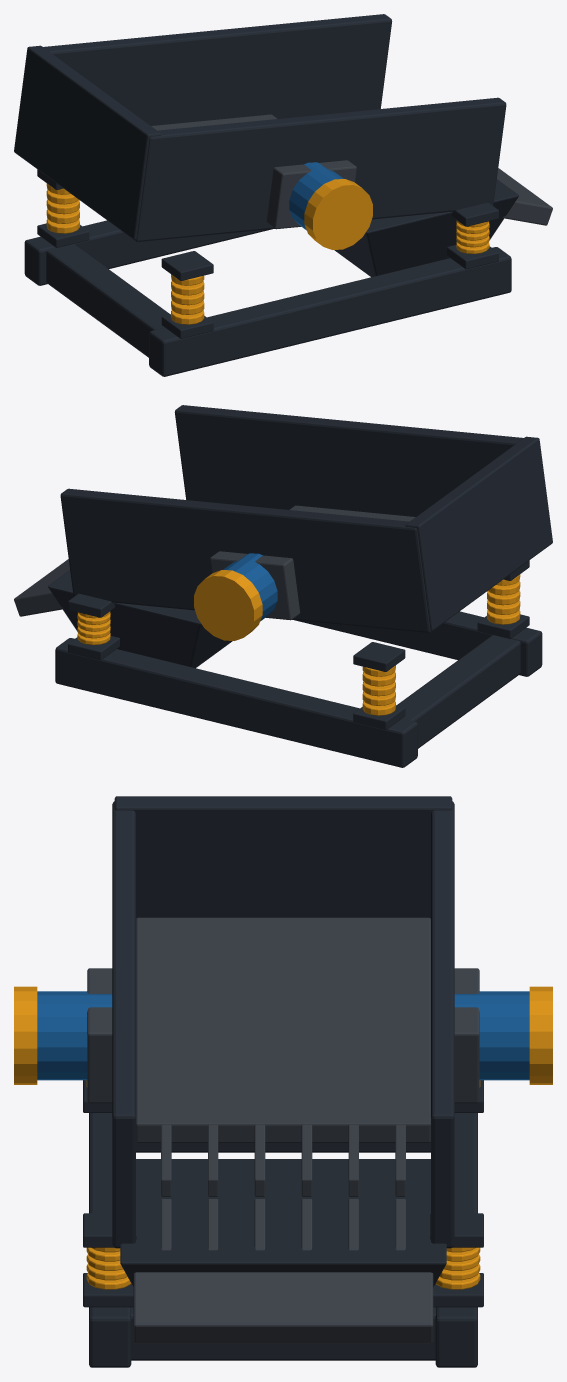
The model's file is vibro_feeder_vf101.glb.
3 renders of one model, top to bottom at view 1: azimuth 30°, elevation 25°; view 2: azimuth 150°, elevation 25°; view 3: azimuth 270°, elevation 25°, orthographic. The views are drawn at different scales.
Parts seen in each view (by area): view 1: VF101_SideL, VF101_SideR, VF101_SubFrameL, VF101_BackPlate, VF101_SubCrossF, VF101_UndersizePan, VF101_SubFrameR, VF101_ExciterWeight_L, VF101_ExciterMount_L, VF101_OversizeNose, VF101_ExciterMotor_L, VF101_Spring_1_TopCap (+5 smaller); view 2: VF101_SideR, VF101_SideL, VF101_SubFrameR, VF101_BackPlate, VF101_SubCrossF, VF101_UndersizePan, VF101_SubFrameL, VF101_ExciterWeight_R, VF101_ExciterMount_R, VF101_OversizeNose, VF101_ExciterMotor_R, VF101_Spring_2_TopCap (+5 smaller); view 3: VF101_PanFloor, VF101_BackPlate, VF101_UndersizePan, VF101_OversizeNose, VF101_SideL, VF101_SideR, VF101_SubCrossR, VF101_SubFrameL, VF101_SubFrameR, VF101_ExciterMotor_L, VF101_ExciterMotor_R, VF101_ExciterMount_L (+14 smaller).
Boxes of the visible parts, left/top/right/bottom form: VF101_SideL: left=134, top=97, right=506, bottom=241; VF101_SideR: left=43, top=14, right=392, bottom=125; VF101_SubFrameL: left=149, top=247, right=511, bottom=376; VF101_BackPlate: left=14, top=45, right=161, bottom=239; VF101_SubCrossF: left=46, top=244, right=170, bottom=357; VF101_UndersizePan: left=334, top=179, right=518, bottom=277; VF101_SubFrameR: left=24, top=220, right=272, bottom=285; VF101_ExciterWeight_L: left=304, top=179, right=372, bottom=249; VF101_ExciterMount_L: left=266, top=160, right=356, bottom=229; VF101_OversizeNose: left=497, top=168, right=552, bottom=225; VF101_ExciterMotor_L: left=289, top=162, right=343, bottom=230; VF101_Spring_1_TopCap: left=161, top=251, right=213, bottom=280; VF101_SideR: left=60, top=488, right=432, bottom=632; VF101_SideL: left=174, top=405, right=523, bottom=516; VF101_SubFrameR: left=55, top=638, right=417, bottom=767; VF101_BackPlate: left=405, top=436, right=552, bottom=630; VF101_SubCrossF: left=396, top=635, right=520, bottom=748; VF101_UndersizePan: left=48, top=570, right=232, bottom=668; VF101_SubFrameL: left=294, top=611, right=542, bottom=676; VF101_ExciterWeight_R: left=194, top=570, right=262, bottom=640; VF101_ExciterMount_R: left=210, top=551, right=300, bottom=620; VF101_OversizeNose: left=14, top=559, right=69, bottom=616; VF101_ExciterMotor_R: left=223, top=553, right=277, bottom=621; VF101_Spring_2_TopCap: left=353, top=642, right=405, bottom=671; VF101_PanFloor: left=136, top=917, right=430, bottom=1142; VF101_BackPlate: left=114, top=796, right=452, bottom=918; VF101_UndersizePan: left=120, top=1159, right=446, bottom=1286; VF101_OversizeNose: left=133, top=1272, right=433, bottom=1343; VF101_SideL: left=112, top=801, right=135, bottom=1248; VF101_SideR: left=431, top=801, right=454, bottom=1248; VF101_SubCrossR: left=130, top=1307, right=436, bottom=1360; VF101_SubFrameL: left=89, top=1113, right=131, bottom=1367; VF101_SubFrameR: left=435, top=1113, right=477, bottom=1367; VF101_ExciterMotor_L: left=37, top=991, right=112, bottom=1080; VF101_ExciterMotor_R: left=454, top=991, right=529, bottom=1080; VF101_ExciterMount_L: left=87, top=968, right=112, bottom=1103.
Bounding box in the file's own units: 2.93 × 1.56 × 2.3.
